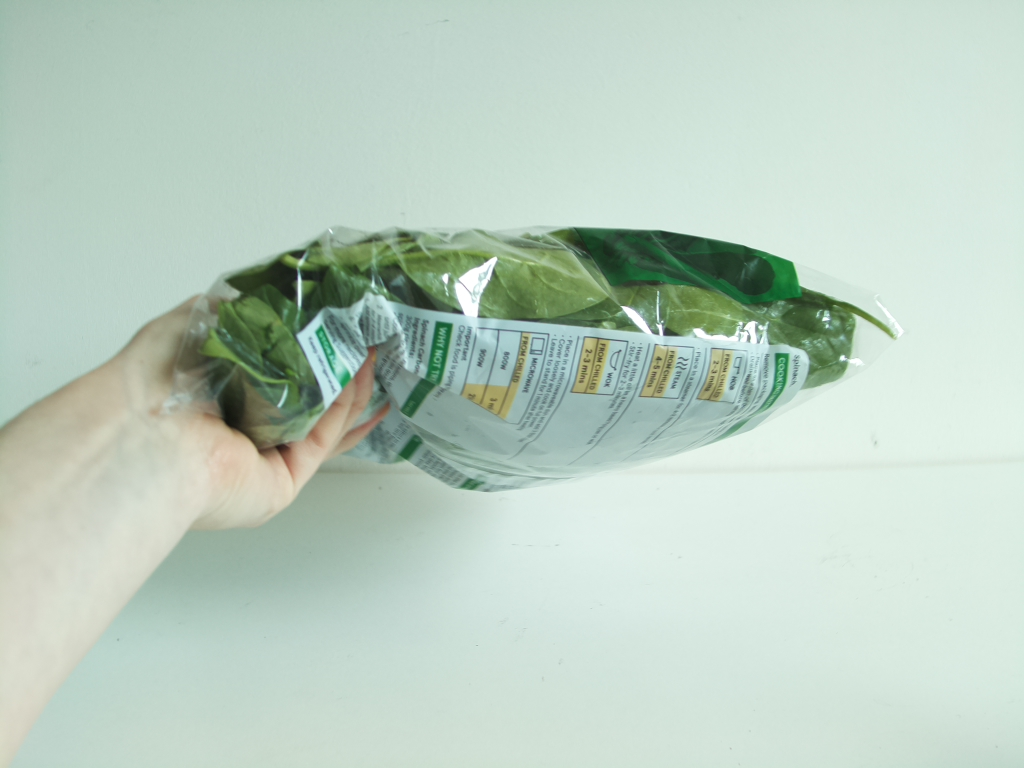salad: (194, 221, 901, 489)
